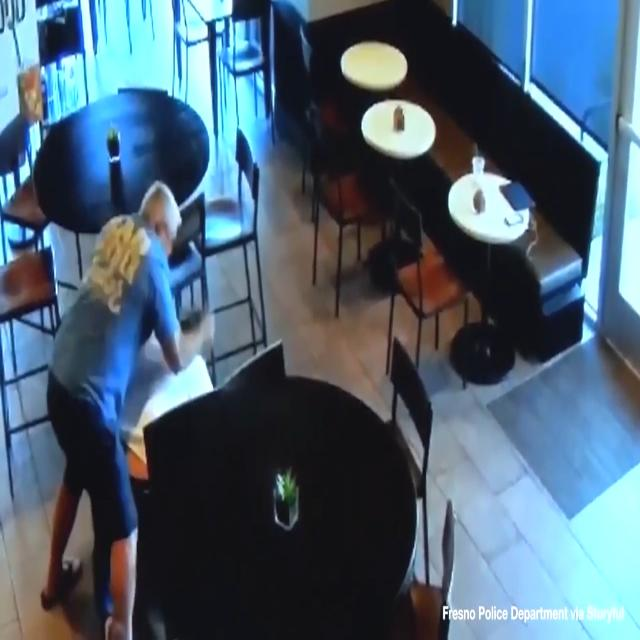fight: (41, 173, 215, 640)
